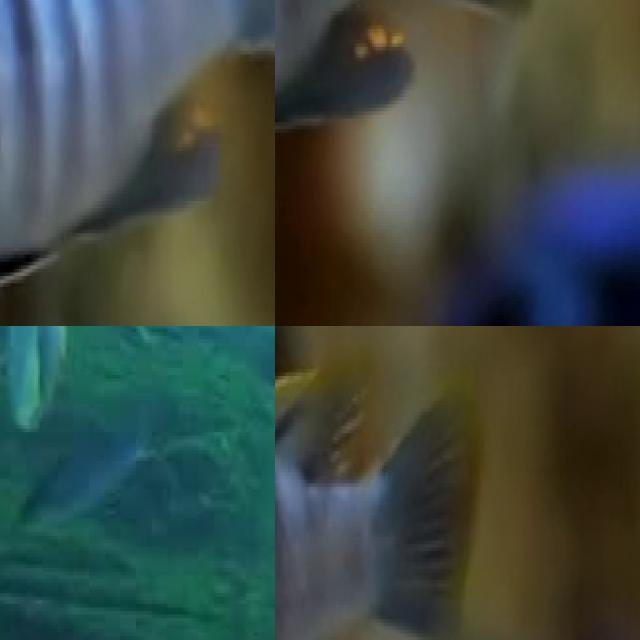fish: (0, 0, 275, 326), (407, 154, 640, 326)
